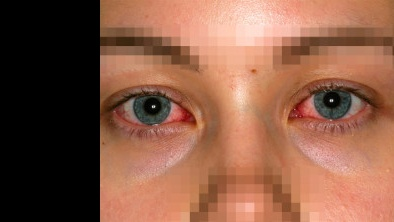SJS-TEN: (142, 0, 377, 66), (277, 122, 394, 222), (100, 140, 202, 222)
